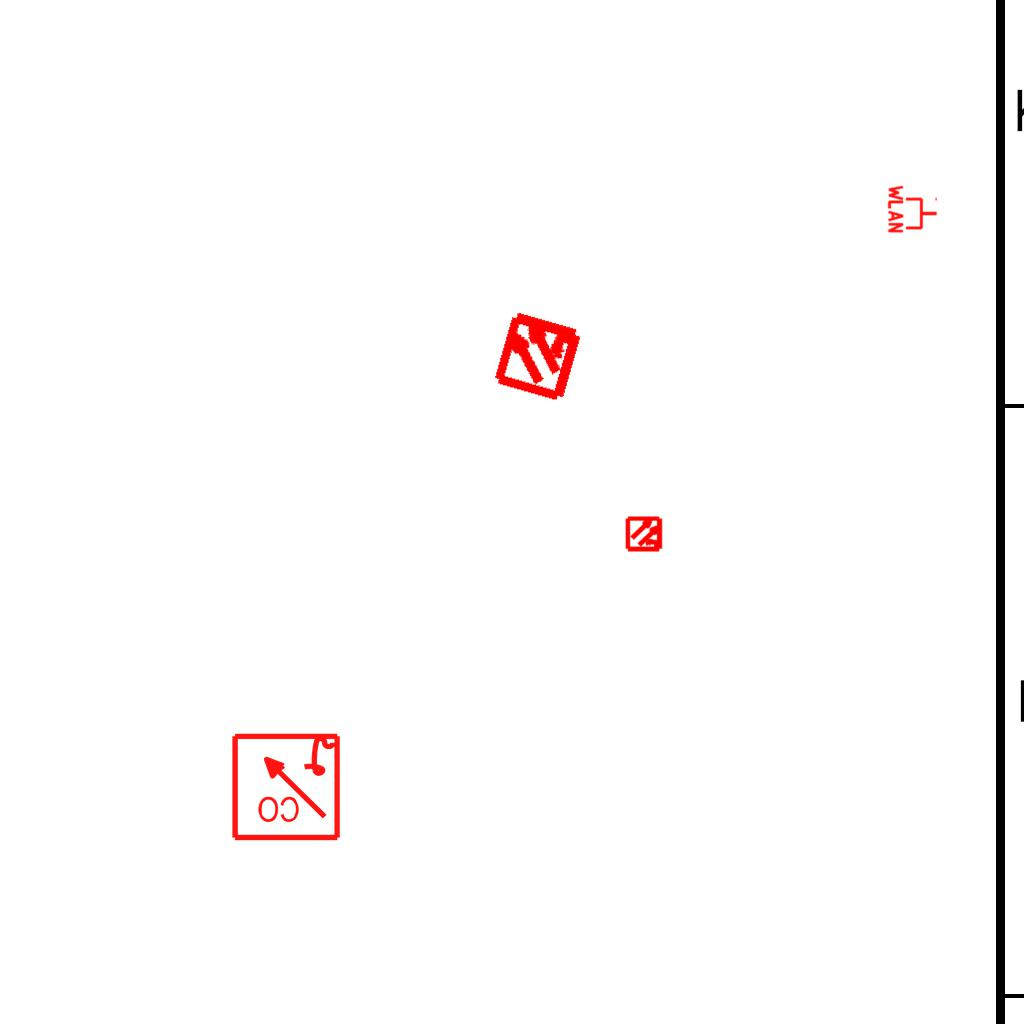OT_Multisensormelder_(Kombination_RMO_WMD): (468, 284, 609, 425), (617, 506, 673, 562)
ROA_Rauchmelder_optisch_mit_Signalgeber_(Sockelsirene): (229, 729, 342, 842)
WLAN: (887, 183, 939, 235)
